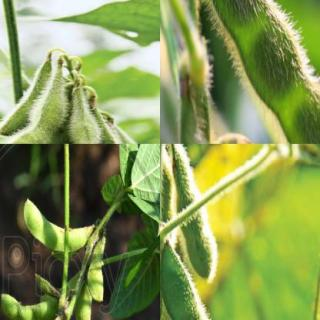soya: (201, 0, 319, 143), (173, 144, 219, 281), (160, 245, 238, 319), (1, 71, 68, 143), (0, 61, 54, 137), (23, 198, 89, 252), (68, 91, 102, 143), (0, 293, 58, 319), (87, 238, 106, 303), (76, 292, 100, 319)
